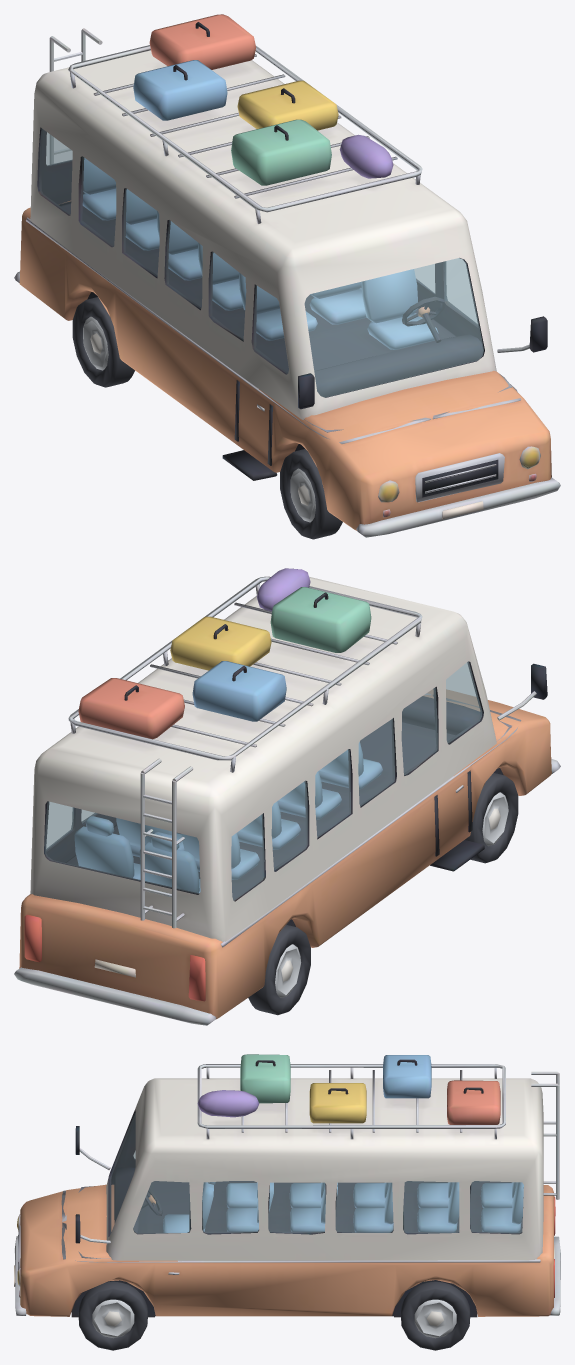
Rendered from n_minibus.glb.
The picture shows the model from 3 angles, top to bottom: view 1: azimuth 30°, elevation 25°; view 2: azimuth 150°, elevation 25°; view 3: azimuth 270°, elevation 25°; orthographic projection. The views are drawn at different scales.
Visible parts, largest first — view 1: minibus_body, minibus_windows, minibus_wheel_fr, minibus_wheel_rr; view 2: minibus_body, minibus_windows, minibus_wheel_rr, minibus_wheel_fr; view 3: minibus_body, minibus_windows, minibus_wheel_rl, minibus_wheel_fl.
Part boxes in pixels (x1=…): minibus_body: x1=14, y1=14, x2=560, y2=537; minibus_windows: x1=39, y1=128, x2=483, y2=397; minibus_wheel_fr: x1=280, y1=449, x2=342, y2=539; minibus_wheel_rr: x1=72, y1=297, x2=134, y2=387; minibus_body: x1=14, y1=568, x2=560, y2=1025; minibus_windows: x1=45, y1=661, x2=481, y2=900; minibus_wheel_rr: x1=248, y1=924, x2=310, y2=1015; minibus_wheel_fr: x1=465, y1=773, x2=518, y2=863; minibus_body: x1=14, y1=1054, x2=560, y2=1317; minibus_windows: x1=110, y1=1113, x2=523, y2=1234; minibus_wheel_rl: x1=400, y1=1281, x2=470, y2=1350; minibus_wheel_fl: x1=78, y1=1281, x2=147, y2=1350.
Bounding box in the file's own units: 2.51 × 3.07 × 6.18.
Materials: 3 (1 with a texture image).
